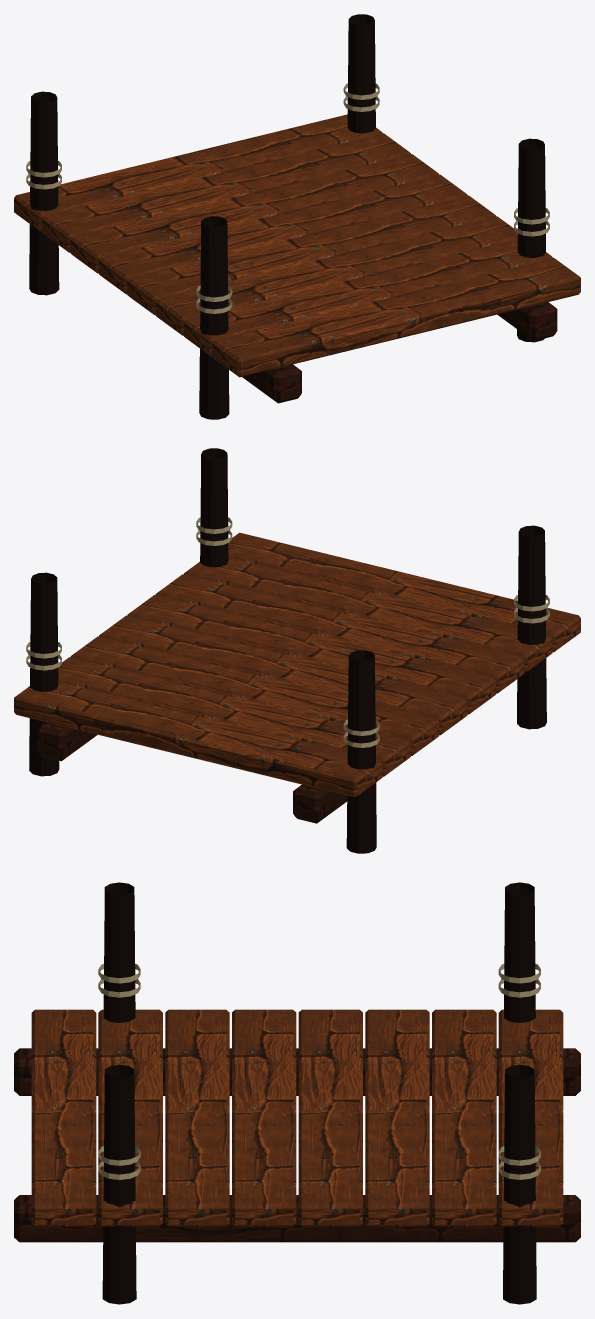
Rendered from timber-dock.glb.
3 views of the same model, one above another, from view 1: azimuth 30°, elevation 25°; view 2: azimuth 150°, elevation 25°; view 3: azimuth 270°, elevation 25° (orthographic). The views are drawn at different scales.
Visible parts, largest first — view 1: timber-dock|3dtextures-aged-wood, timber-dock|3dtextures-oiled-wood, timber-dock|twisted-flax-rope; view 2: timber-dock|3dtextures-aged-wood, timber-dock|3dtextures-oiled-wood, timber-dock|twisted-flax-rope; view 3: timber-dock|3dtextures-aged-wood, timber-dock|3dtextures-oiled-wood, timber-dock|twisted-flax-rope.
Boxes of the visible parts, x1,y1,x2,y2 form: timber-dock|3dtextures-aged-wood: [14, 114, 580, 377]; timber-dock|3dtextures-oiled-wood: [29, 14, 557, 419]; timber-dock|twisted-flax-rope: [26, 83, 549, 313]; timber-dock|3dtextures-aged-wood: [14, 532, 580, 797]; timber-dock|3dtextures-oiled-wood: [29, 448, 546, 853]; timber-dock|twisted-flax-rope: [26, 517, 549, 747]; timber-dock|3dtextures-aged-wood: [31, 1009, 563, 1226]; timber-dock|3dtextures-oiled-wood: [14, 882, 580, 1304]; timber-dock|twisted-flax-rope: [98, 963, 540, 1179].
Bounding box in the file's own units: 2.13 × 1.12 × 2.55.
3 materials, 2 textured.
